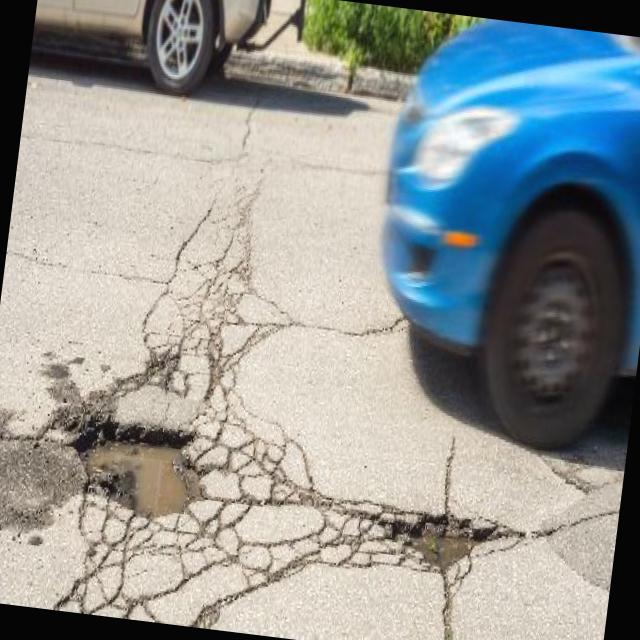Lubang: (68, 415, 205, 516), (405, 512, 495, 571)
Retak-Buaya: (47, 408, 404, 628), (138, 204, 254, 431)
